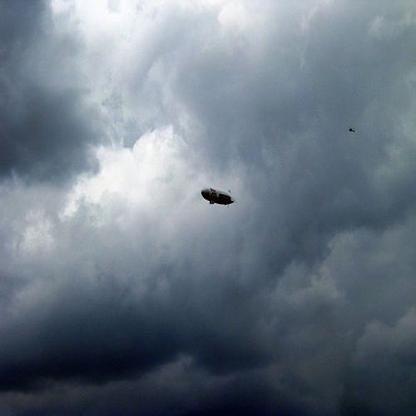Airship: (199, 183, 238, 214)
